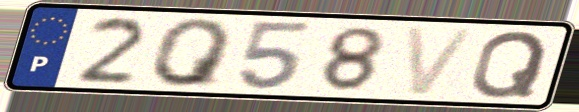2: (75, 14, 150, 84)
5: (236, 21, 317, 93)
8: (319, 25, 390, 93)
Q: (149, 17, 237, 89), (467, 28, 553, 100)
V: (403, 24, 481, 97)
